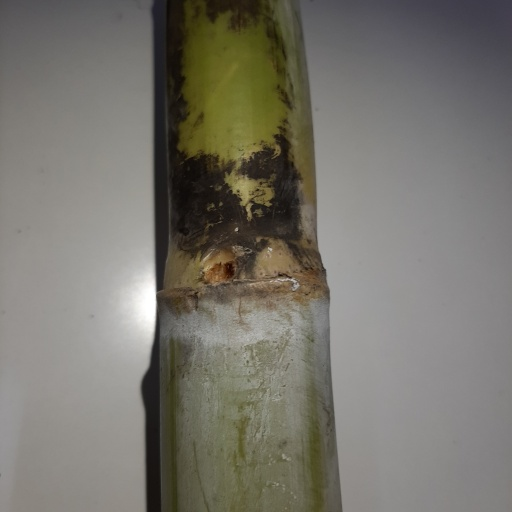Damage_Bud: (201, 247, 236, 285)
